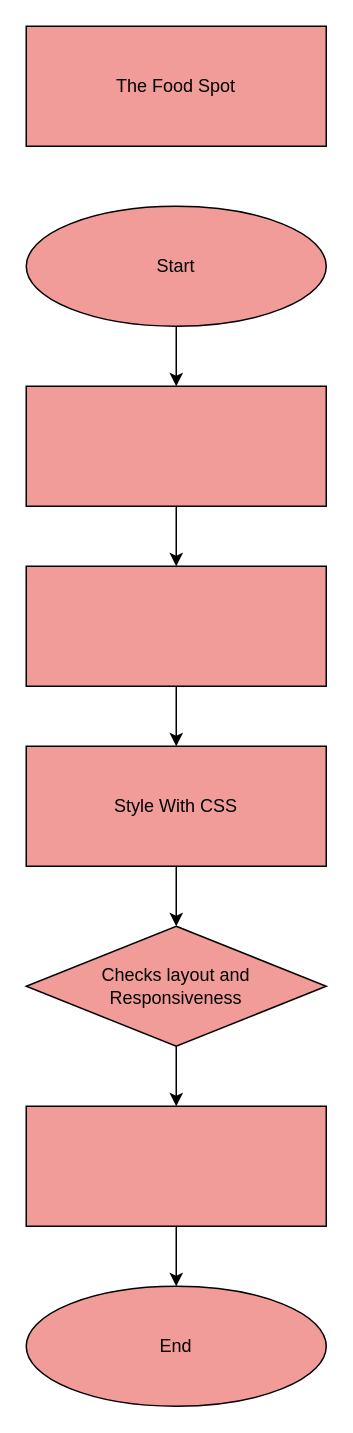
Image size: 353x1433. Some labels were removed from this diagram. The centre of each missing label's shape, as x and y in pixels:
"Plan Contents(Products)" belongs at point (175, 445).
"Share Website" belongs at point (175, 1165).
"Write Html Code" belongs at point (175, 625).
